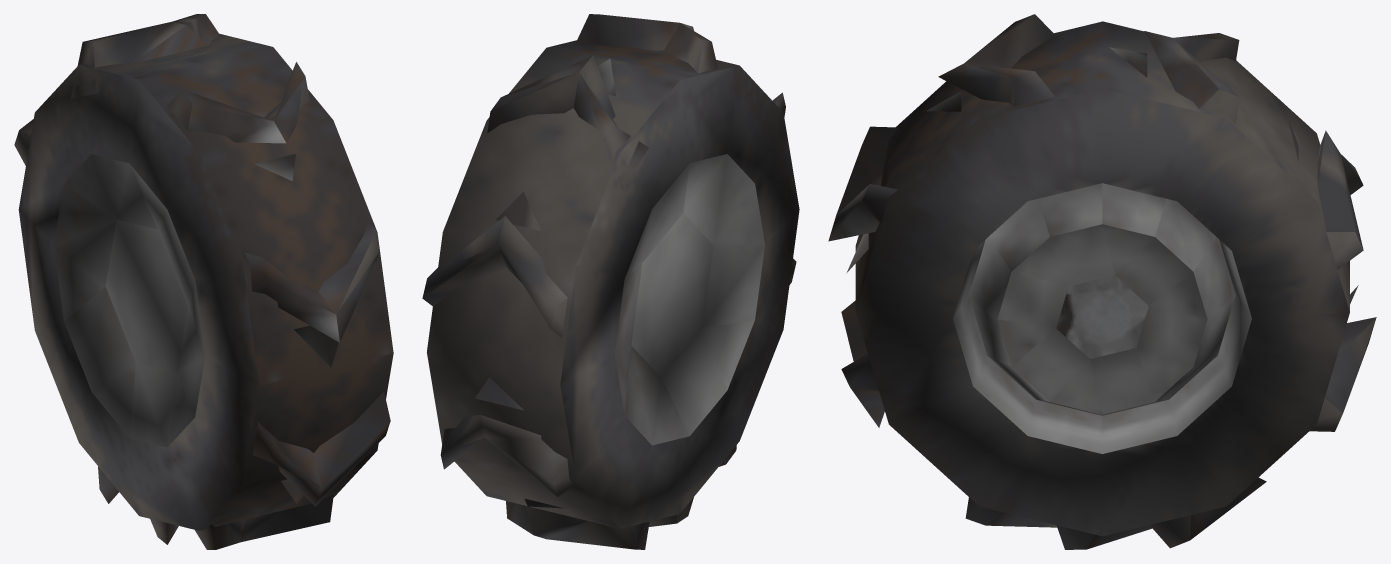
Rendered from tyre-last.glb.
3 views of the same model, side by side, from view 1: azimuth 30°, elevation 25°; view 2: azimuth 150°, elevation 25°; view 3: azimuth 270°, elevation 25° (orthographic). The views are drawn at different scales.
Visible parts, largest first — view 1: tyre; view 2: tyre; view 3: tyre.
Part boxes in pixels (<box>): tyre: <box>14,14,393,549</box>; tyre: <box>422,14,799,549</box>; tyre: <box>828,14,1376,549</box>.
Bounding box in the file's own units: 0.545 × 1.61 × 1.61.
1 material, 1 textured.
